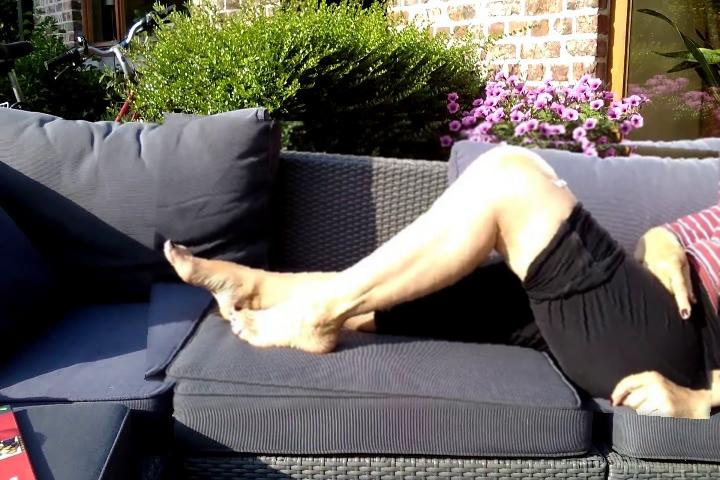lower_body: (149, 122, 720, 410)
